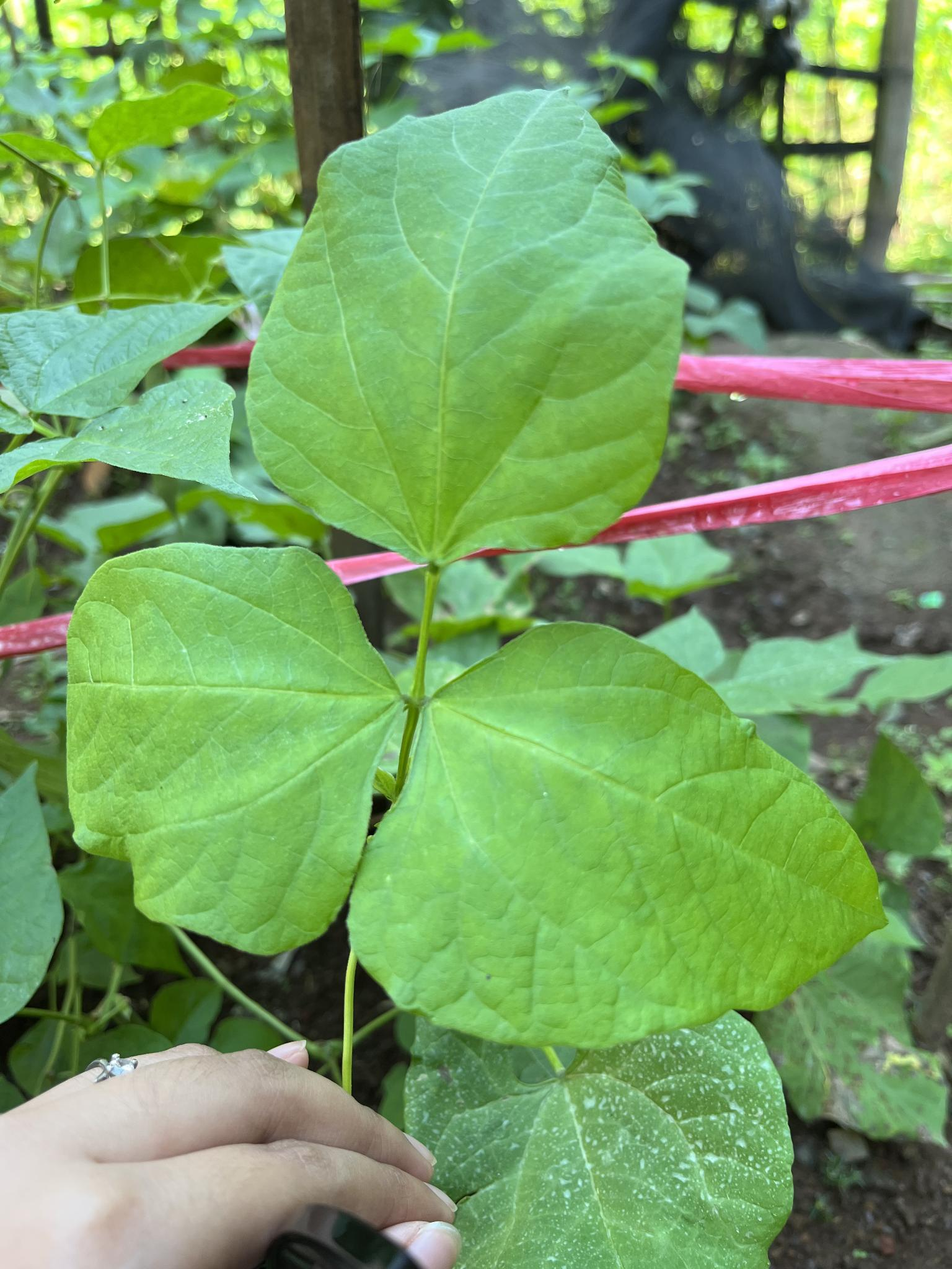sehat: (347, 629, 906, 1043), (232, 75, 692, 566), (64, 541, 431, 956)
